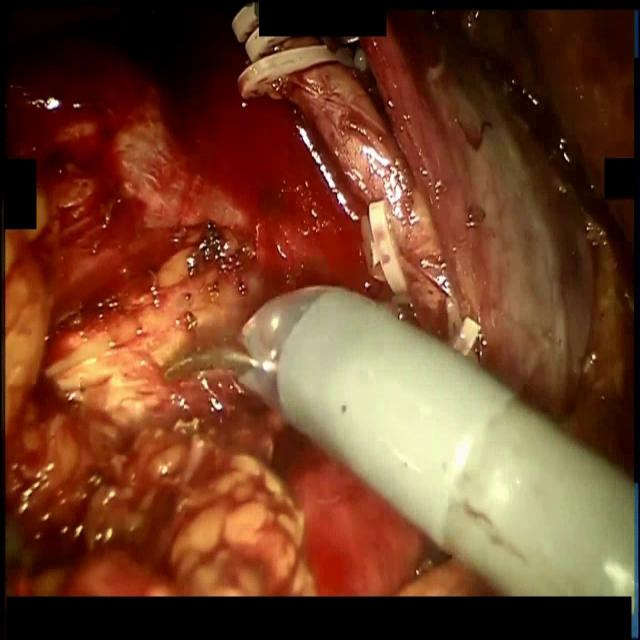surgical-area: (0, 0, 636, 596)
surgical-tool: (235, 284, 635, 597)
